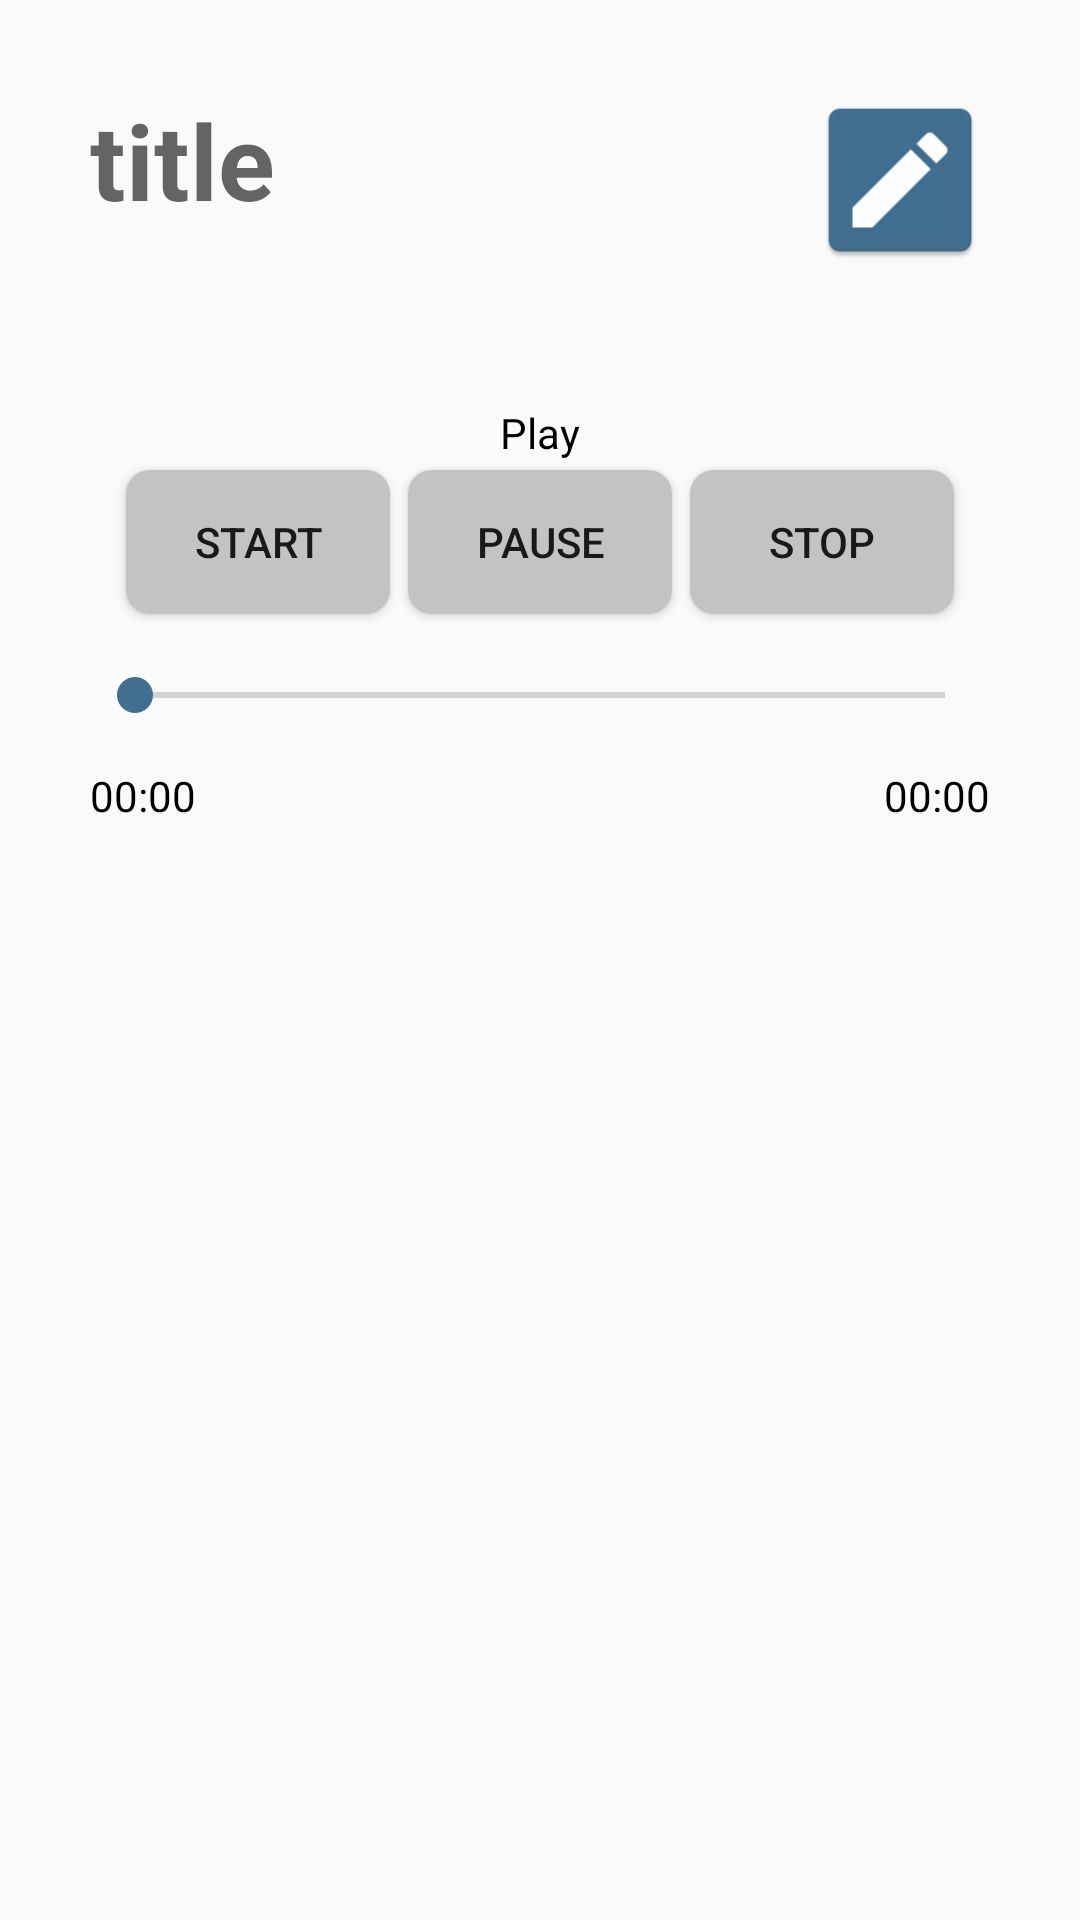

Icon click points for this 1080×1920 phone screenshot, format [x,y]:
editnote: [900,182]
